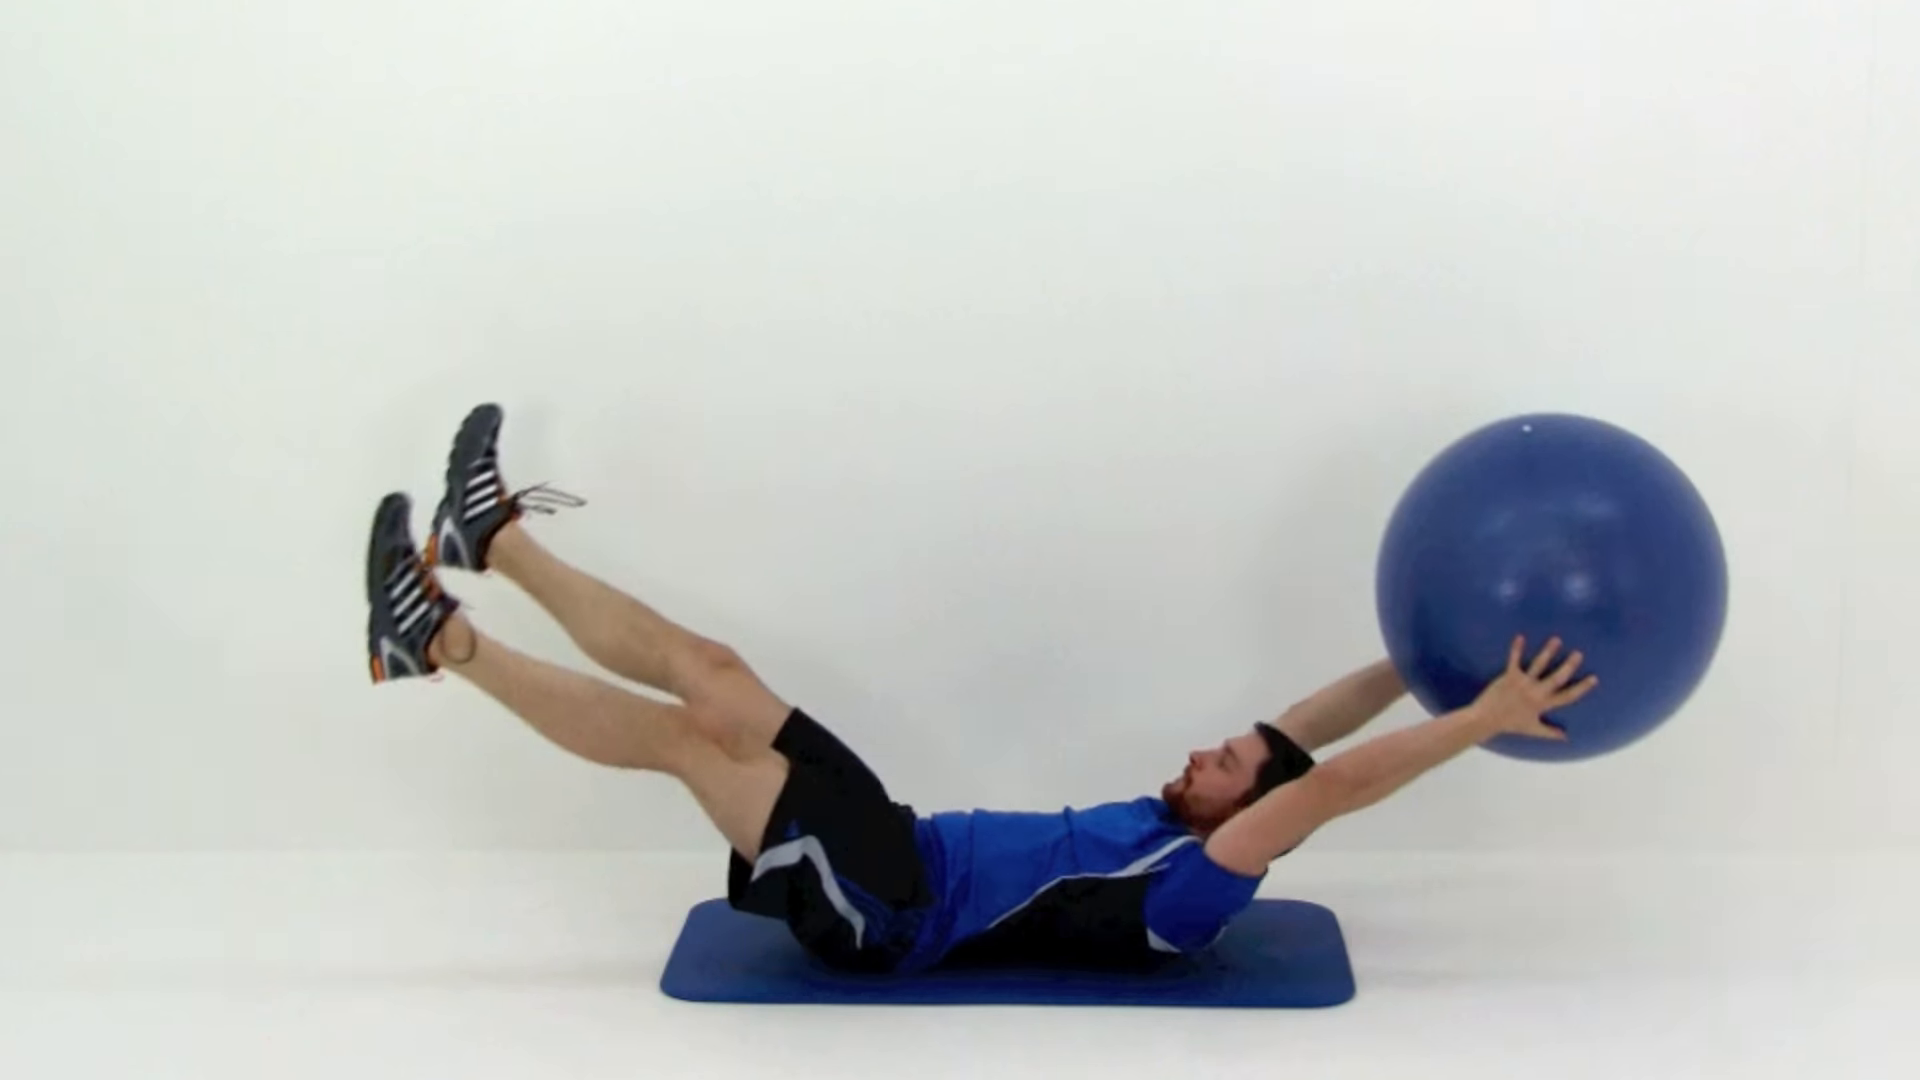yogaball: (1367, 397, 1754, 778)
